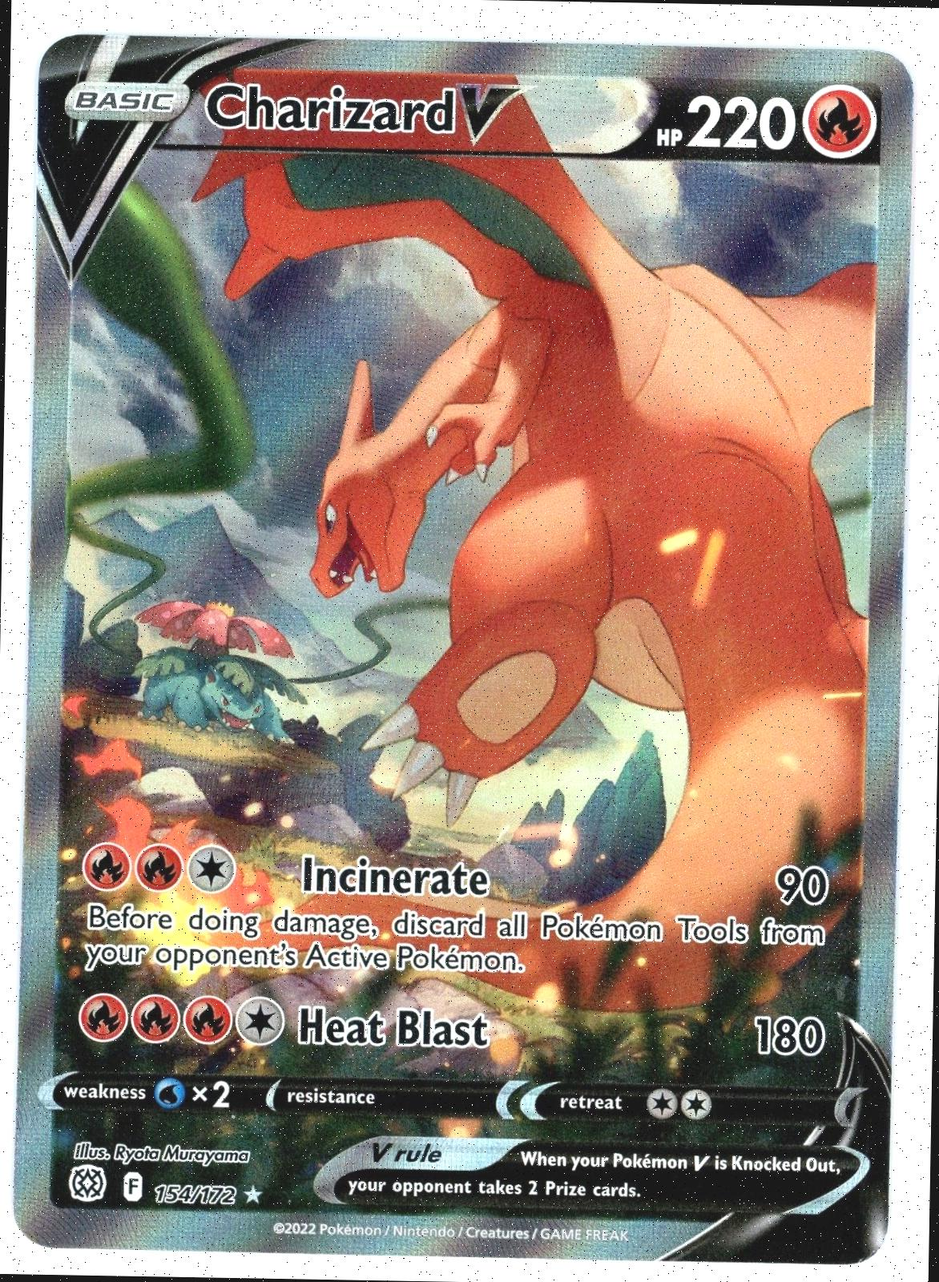card-2UtV: (12, 34, 914, 1265)
